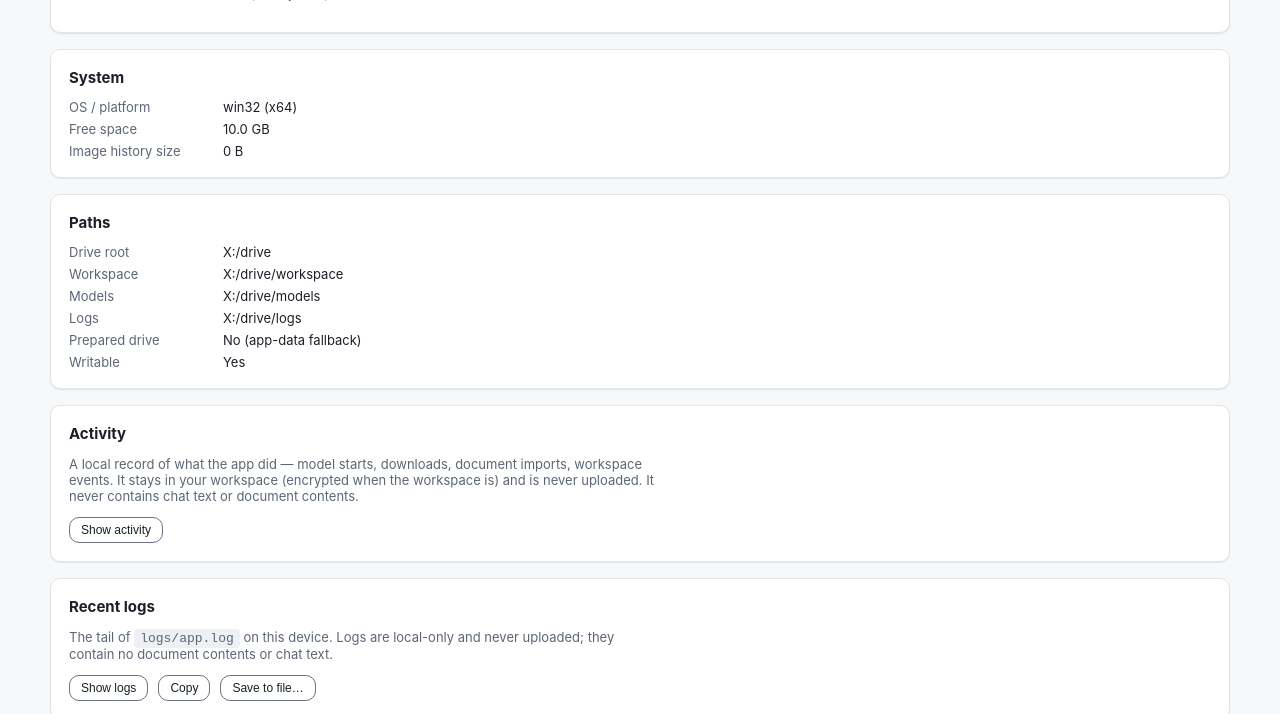
Scenario: Settings → Diagnostics (advanced) — Activity panel (Phase 19) › exports the log and confirms where it was saved (Phase 24: as a toast)
This screenshot has width=1280, height=714.
(page scrolled)
Step 1. Click the button "Show activity" → coordinates (116, 530), box [69, 517, 163, 543]
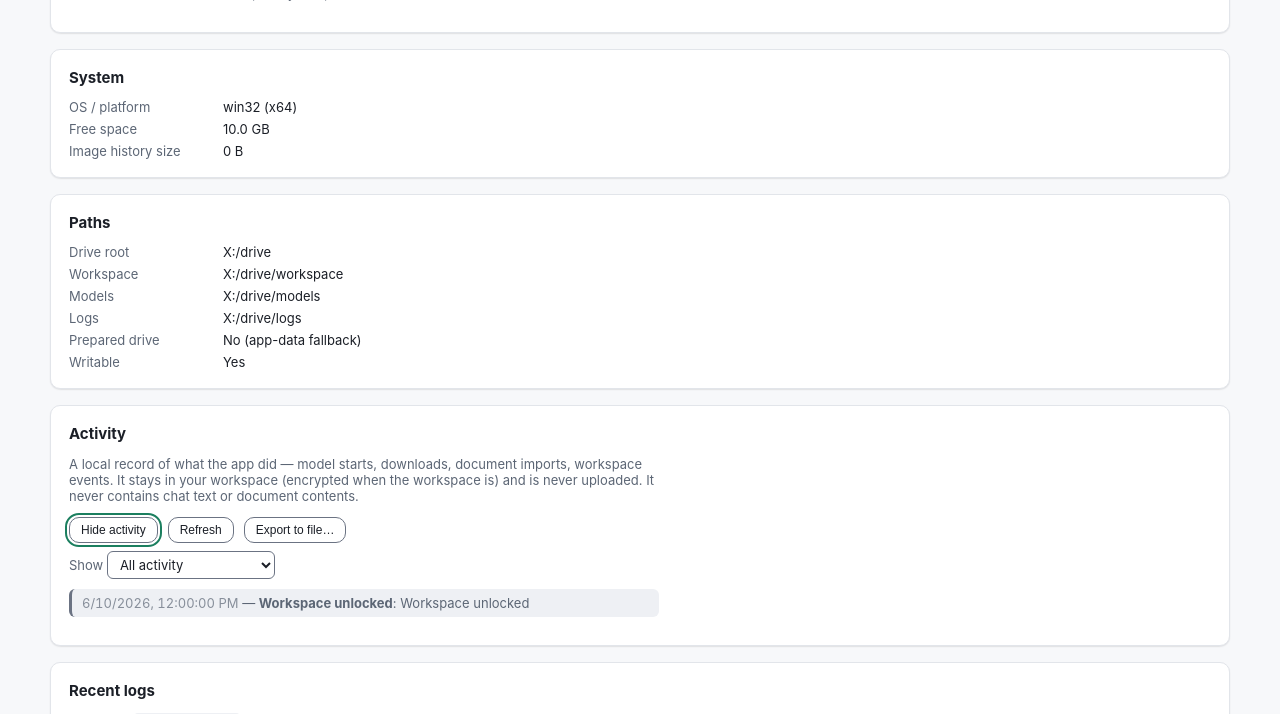
Step 2. Click the button "Export to file…" → coordinates (295, 530), box [244, 517, 346, 543]
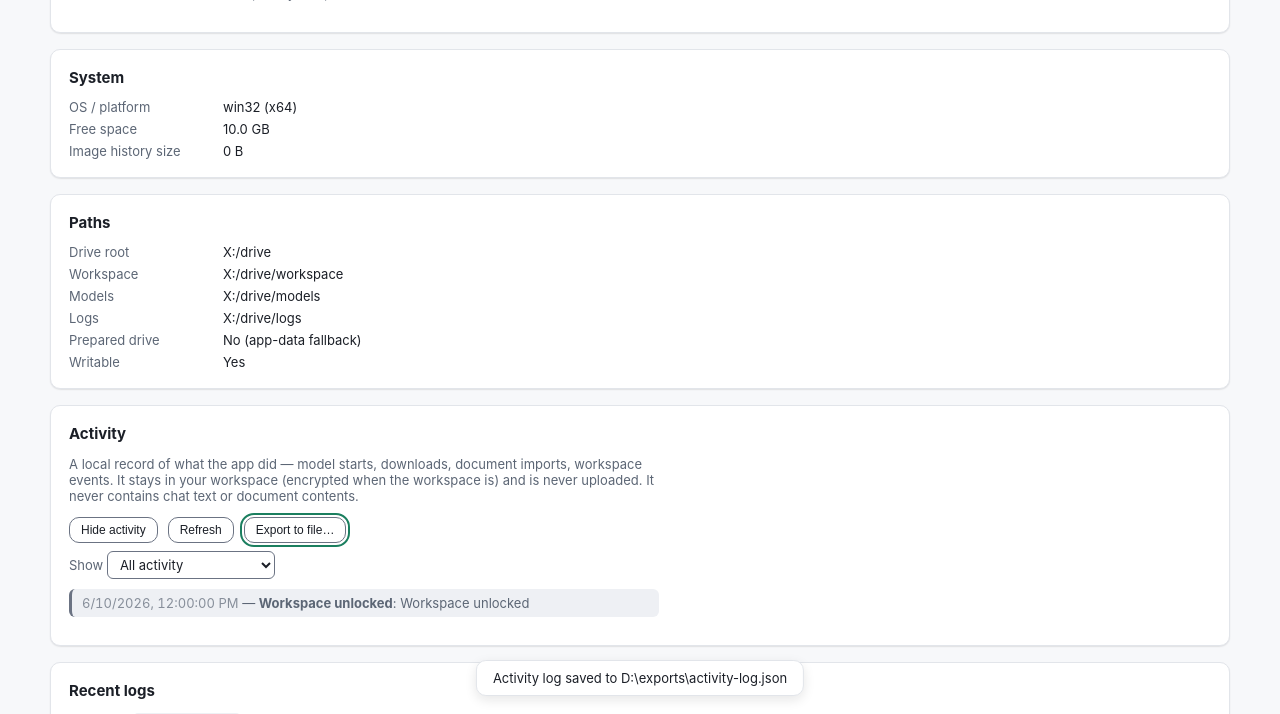
Check: the text "Activity log saved to D:\\exports\\activity-log.json" is shown, box [476, 660, 804, 696]
